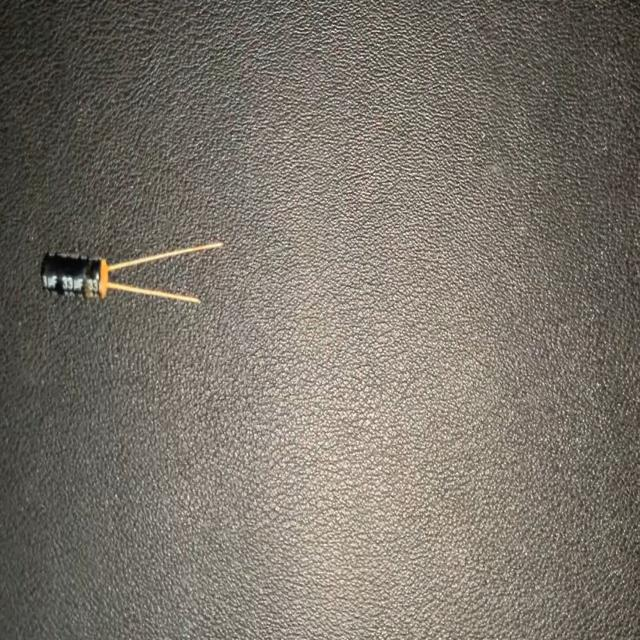capacitor: (35, 237, 224, 308)
rust: (97, 252, 117, 296), (83, 269, 95, 302)
